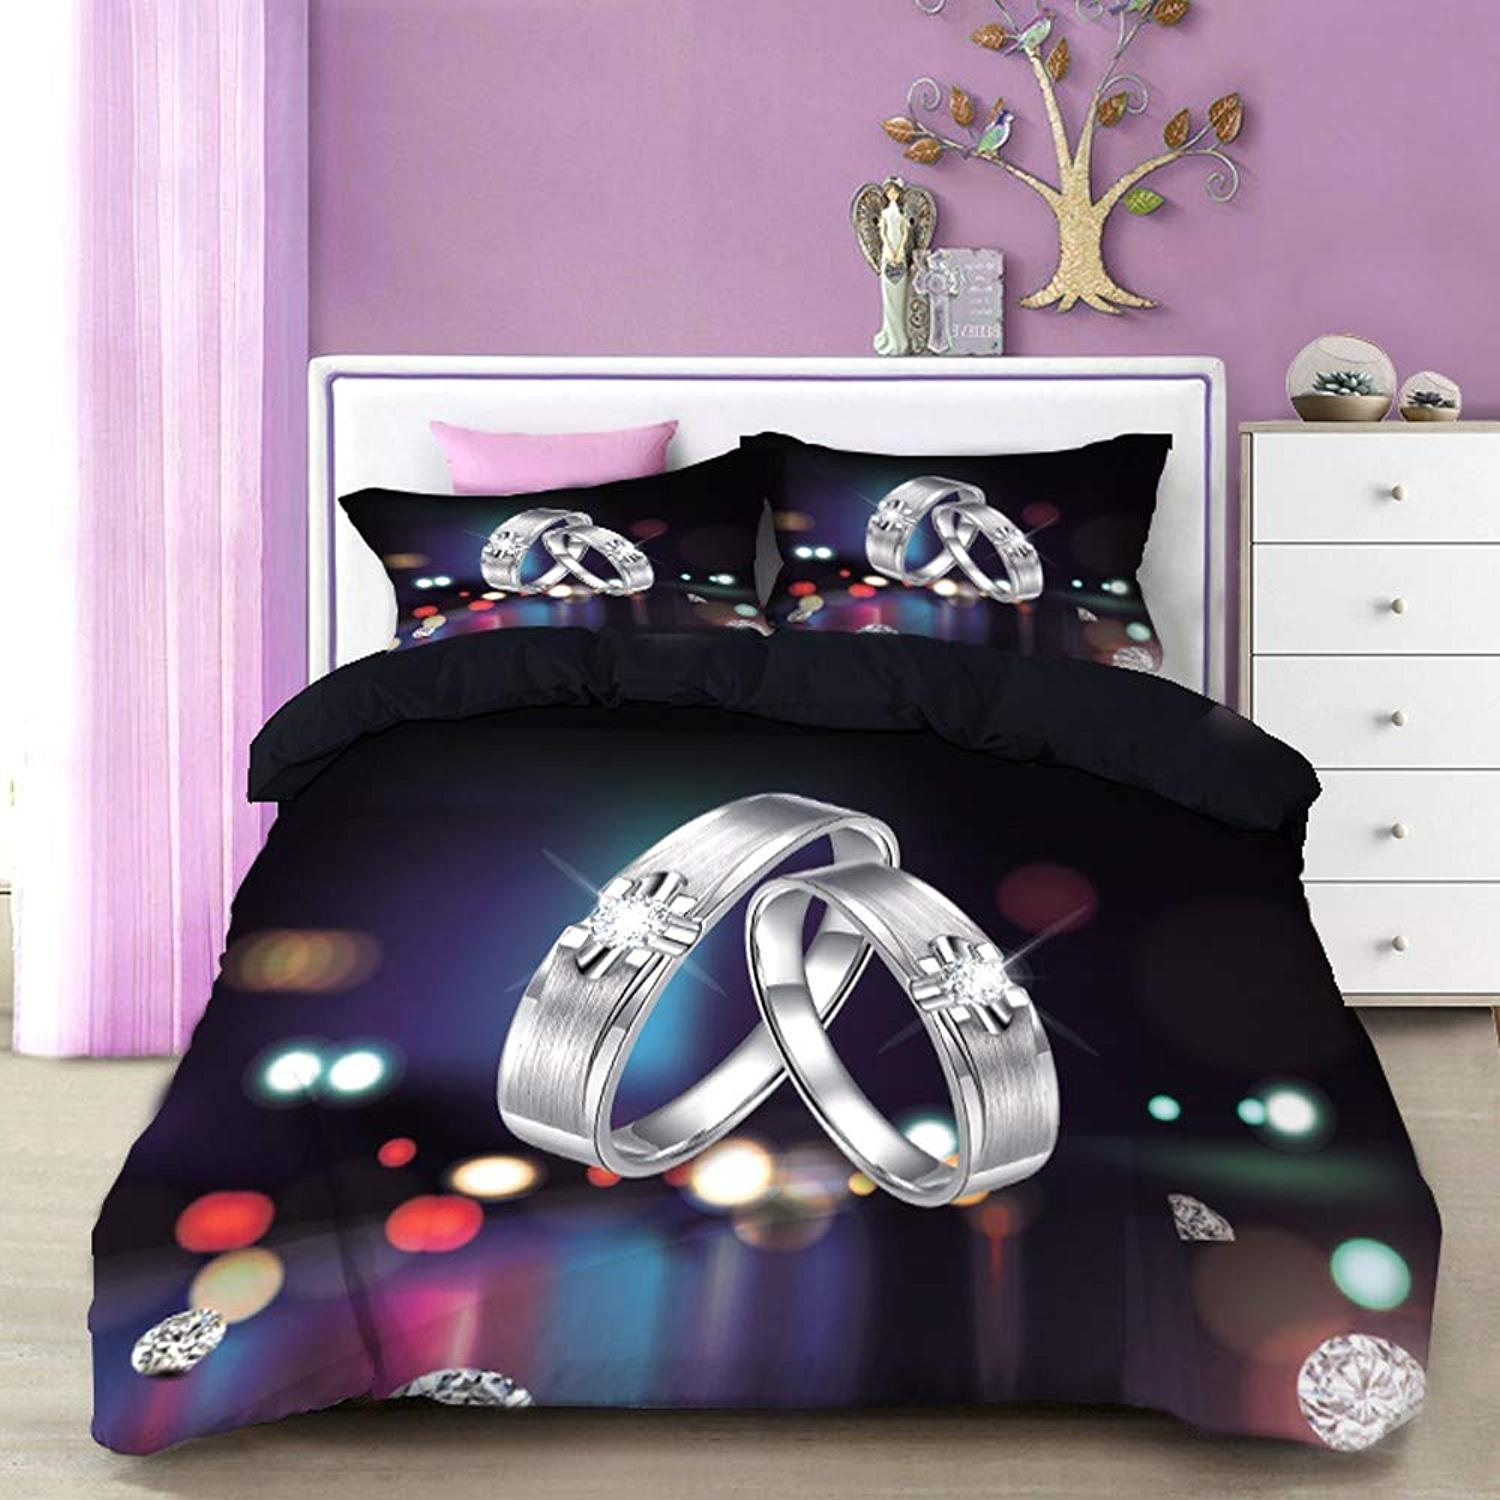bed: (240, 416, 1313, 827)
